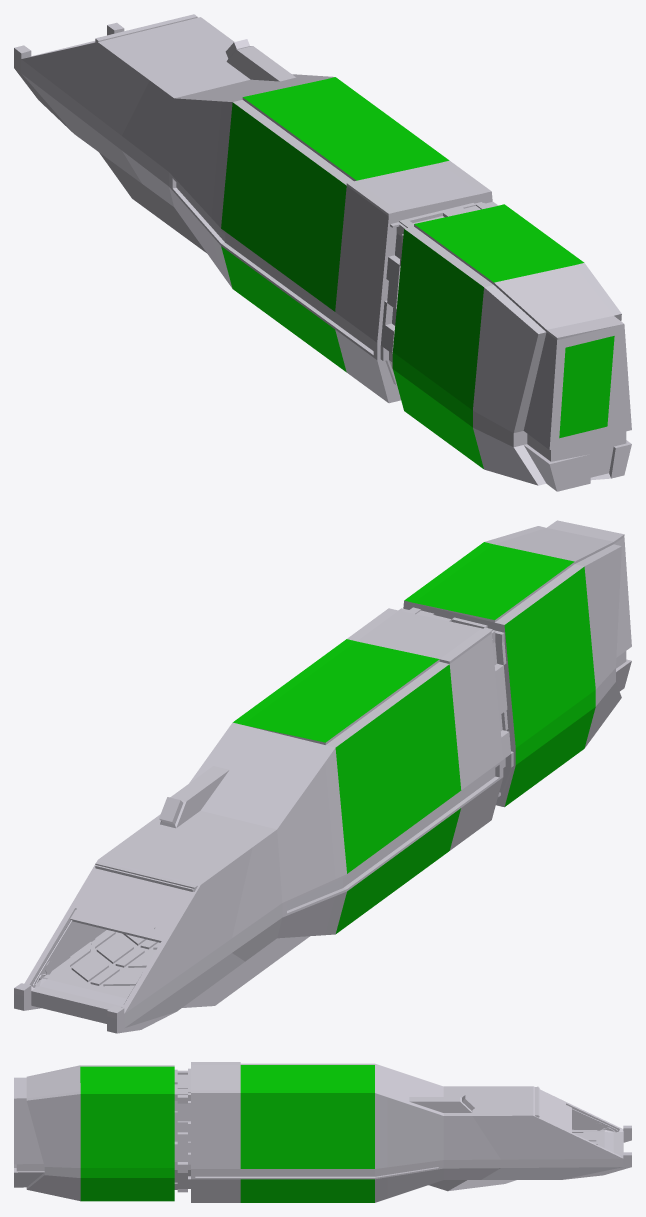
The model's file is hull.hangar.fbx.
The picture shows the model from 3 angles, top to bottom: view 1: azimuth 30°, elevation 25°; view 2: azimuth 150°, elevation 25°; view 3: azimuth 270°, elevation 25°; orthographic projection. The views are drawn at different scales.
Visible parts, largest first — view 1: hull.hangar; view 2: hull.hangar; view 3: hull.hangar.
Part boxes in pixels (box(x1,y1,x2,y2)): hull.hangar: box(14, 14, 631, 491); hull.hangar: box(14, 520, 631, 1033); hull.hangar: box(14, 1062, 631, 1202).
Size of the model in its own units: 1.97 by 2.83 by 14.24.
